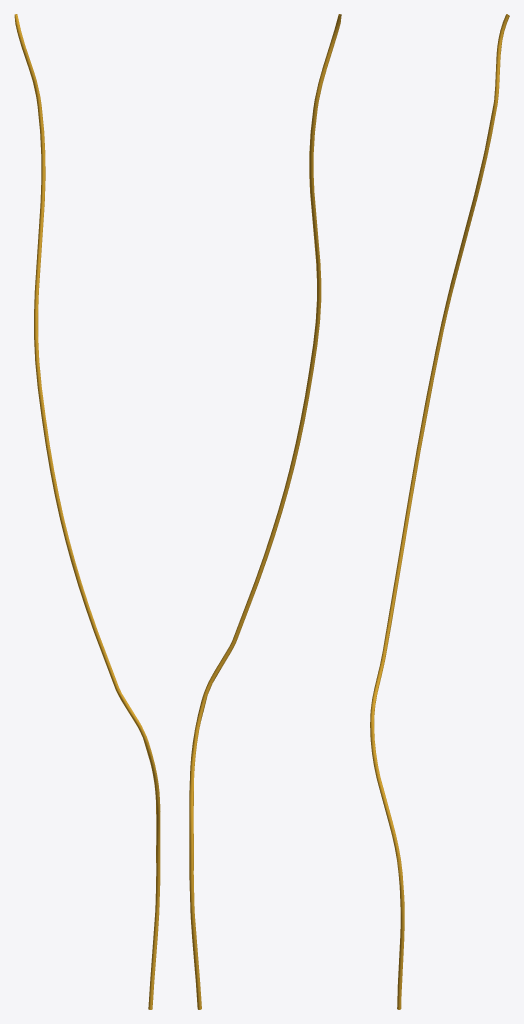
The model's file is nervoso-genital-branch-of-genitofemoral-nerve-r.glb.
The picture shows the model from 3 angles, left to right: view 1: azimuth 30°, elevation 25°; view 2: azimuth 210°, elevation 25°; view 3: azimuth 270°, elevation 25°; orthographic projection. The views are drawn at different scales.
Parts seen in each view (by area): view 1: Genital branch of genitofemoral nerve.r; view 2: Genital branch of genitofemoral nerve.r; view 3: Genital branch of genitofemoral nerve.r.
Part boxes in pixels (<box>): Genital branch of genitofemoral nerve.r: <box>14,14,160,1009</box>; Genital branch of genitofemoral nerve.r: <box>189,14,341,1009</box>; Genital branch of genitofemoral nerve.r: <box>370,14,509,1009</box>.
Size of the model in its own units: 0.0286 by 0.2564 by 0.034.
